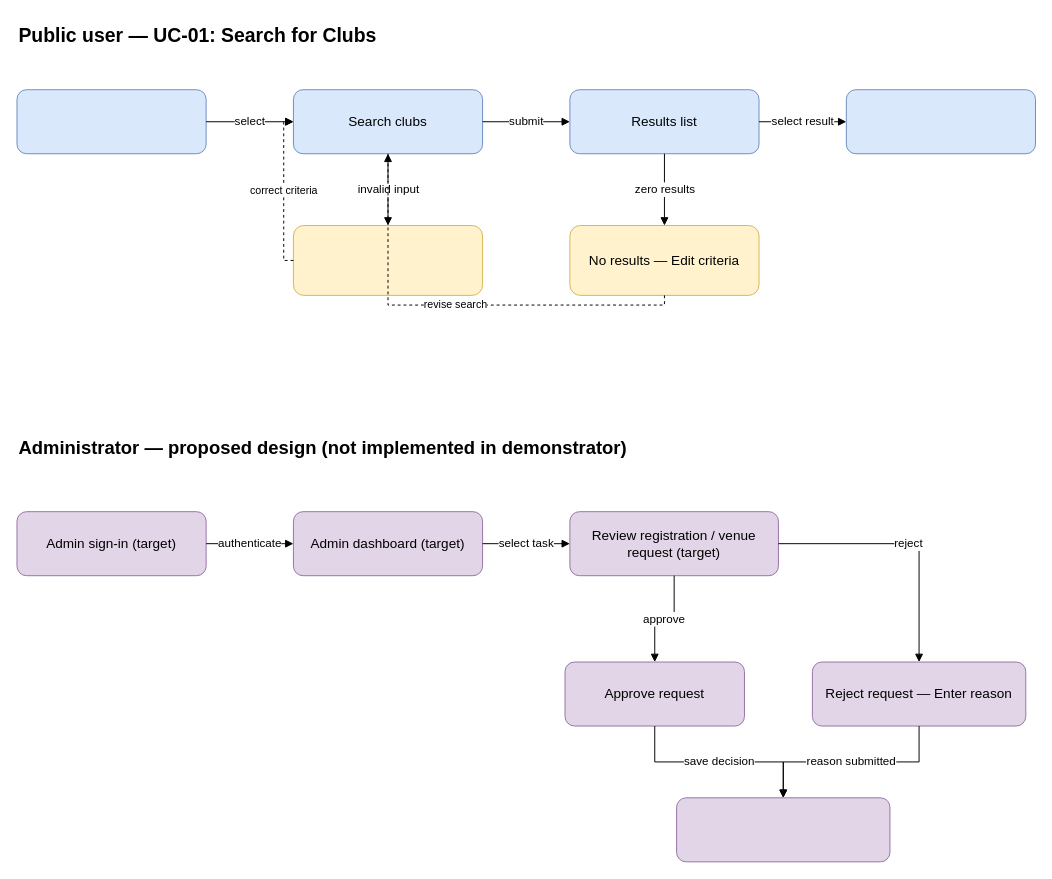
This 1052x879 diagram has some shape labels left out. Here are the shapes that lost their labels. From the top down, the box of each, then its label:
(16, 89, 206, 154): Public landing
(845, 89, 1035, 154): Club details
(292, 225, 483, 295): Invalid input — Show error
(676, 797, 890, 862): Decision confirmation
